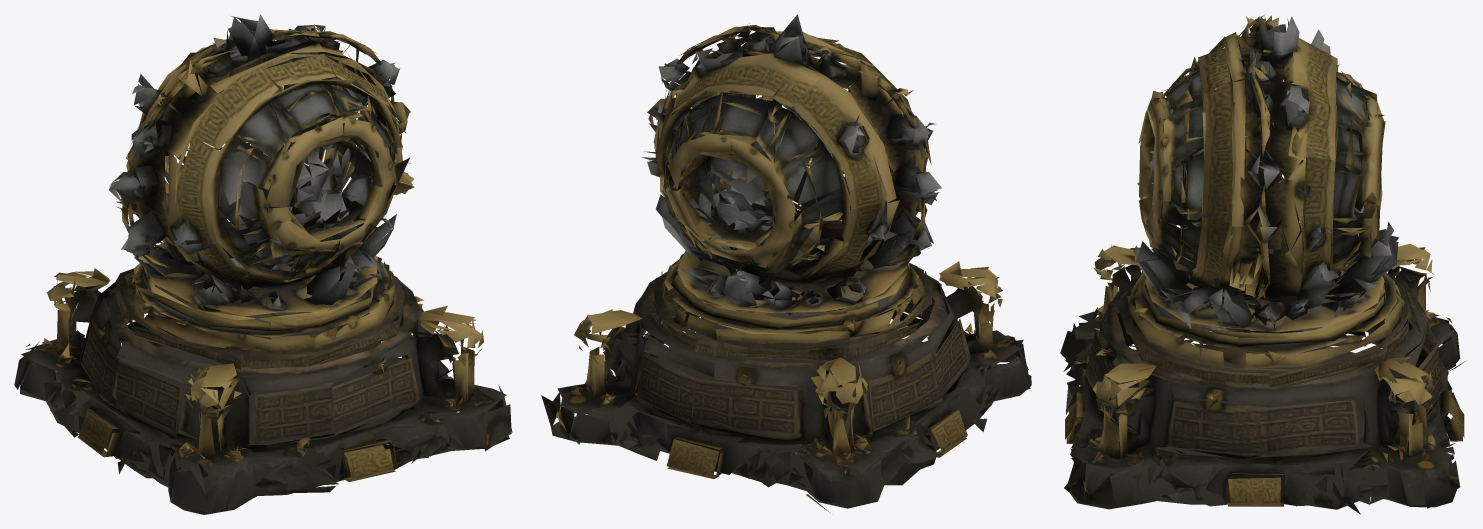
File: ch10_heart_vault_core_LOD2.glb
The picture shows the model from 3 angles, left to right: view 1: azimuth 30°, elevation 25°; view 2: azimuth 150°, elevation 25°; view 3: azimuth 270°, elevation 25°; orthographic projection. The views are drawn at different scales.
Parts seen in each view (by area): view 1: tripo_node_1f63250c-70a3-4314-afd8-5a8f577c92ea; view 2: tripo_node_1f63250c-70a3-4314-afd8-5a8f577c92ea; view 3: tripo_node_1f63250c-70a3-4314-afd8-5a8f577c92ea.
Boxes of the visible parts, left/top/right/bottom form: tripo_node_1f63250c-70a3-4314-afd8-5a8f577c92ea: left=14, top=14, right=512, bottom=514; tripo_node_1f63250c-70a3-4314-afd8-5a8f577c92ea: left=541, top=14, right=1031, bottom=513; tripo_node_1f63250c-70a3-4314-afd8-5a8f577c92ea: left=1060, top=14, right=1465, bottom=514.
Size of the model in its own units: 0.9288 by 1.04 by 0.919.
Materials: 1 (1 with a texture image).
